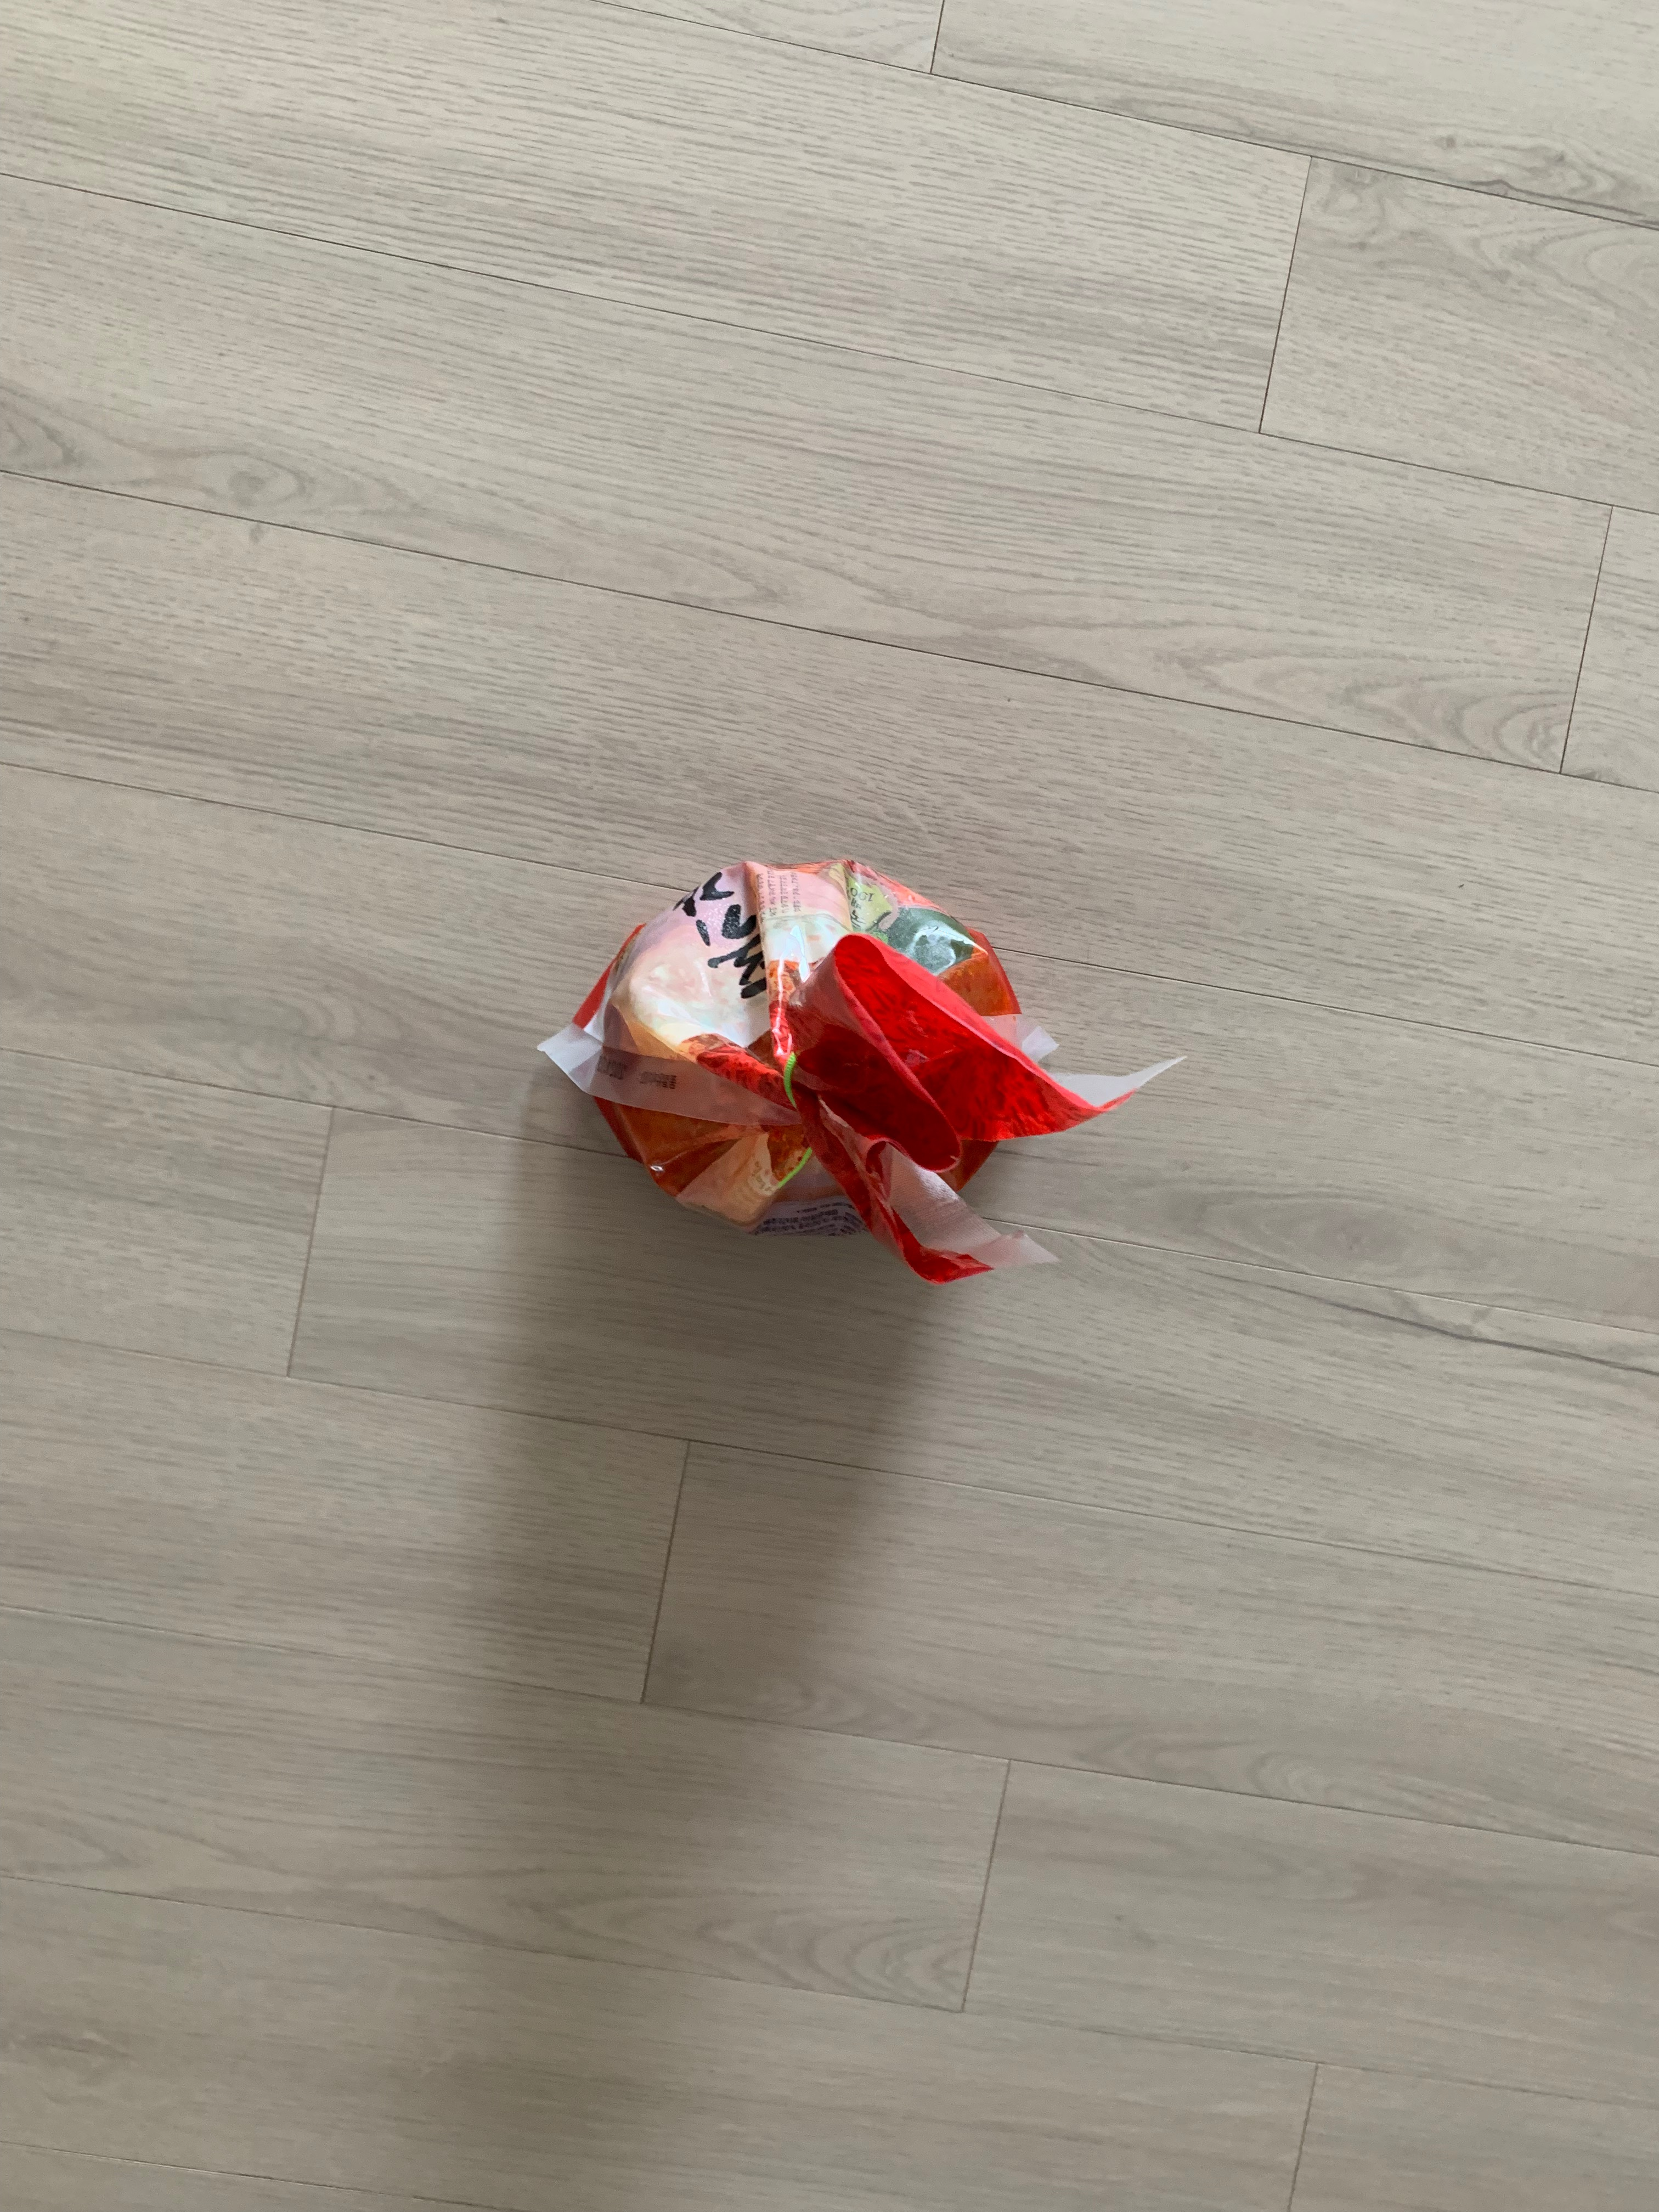kimchi: (591, 857, 1091, 1284)
